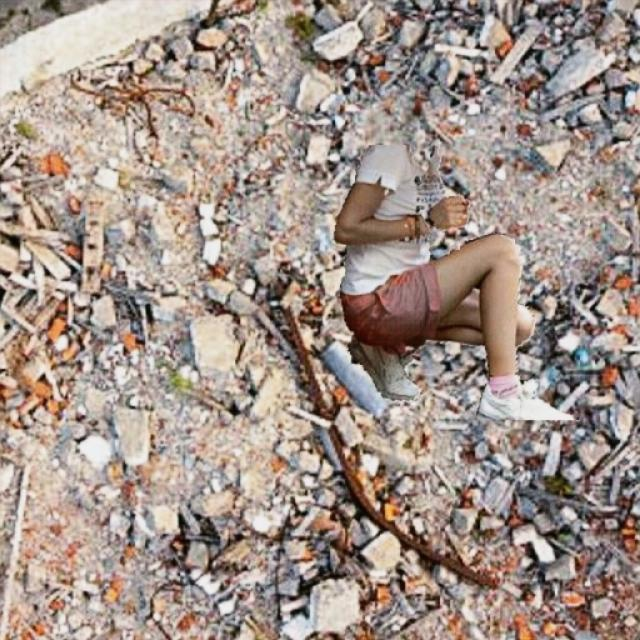Person in Rubble: (332, 145, 578, 419)
